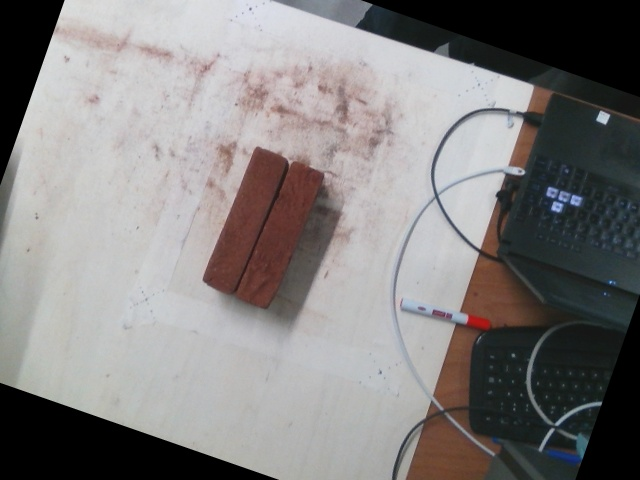brick-side: (200, 147, 289, 293), (235, 162, 324, 308)
